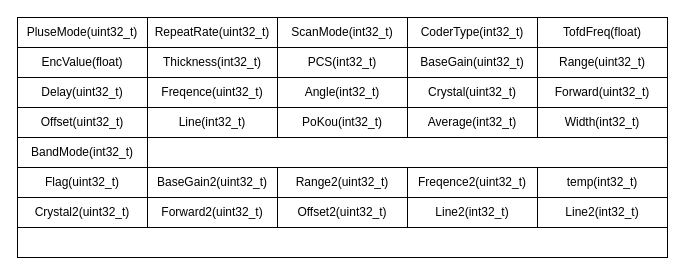
Some shapes in this 685 by 275 pixel diagram are drawn without their labels. The shapes that lost their labels are listed below. From the top down, each one's centre as x and y in pixels, then its label:
At [407,152]: "Data(uint8_t * 500 * Line)".
At [342,242]: "Data2(uint8_t * 500 * Line2)".
